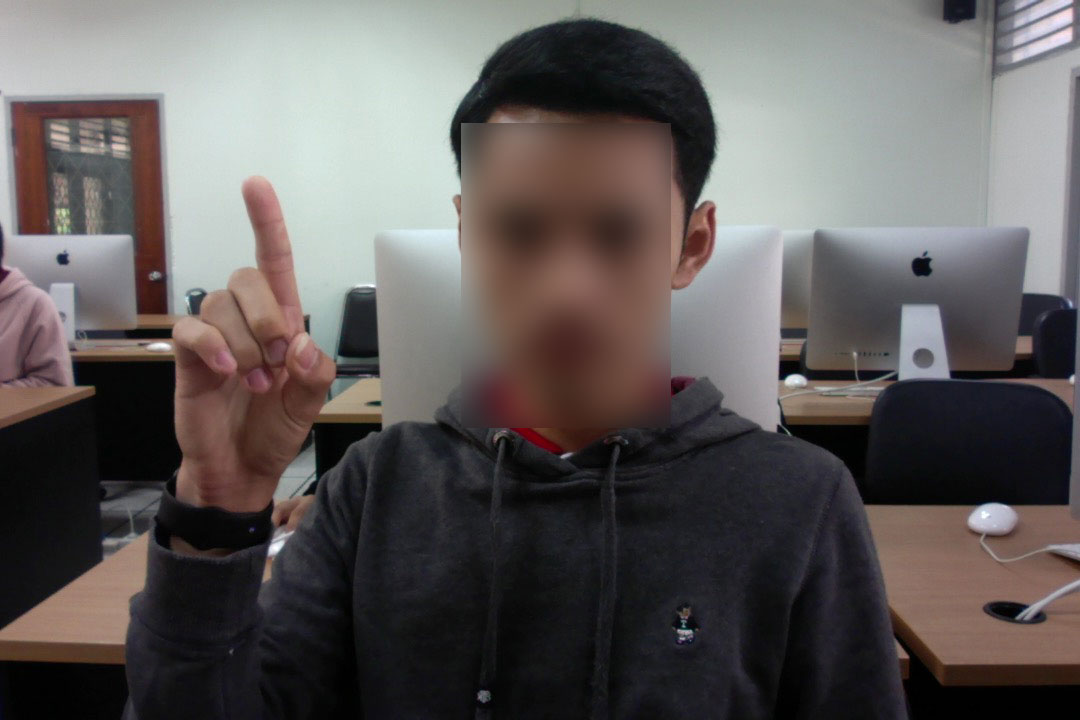dor: (161, 170, 343, 491)
